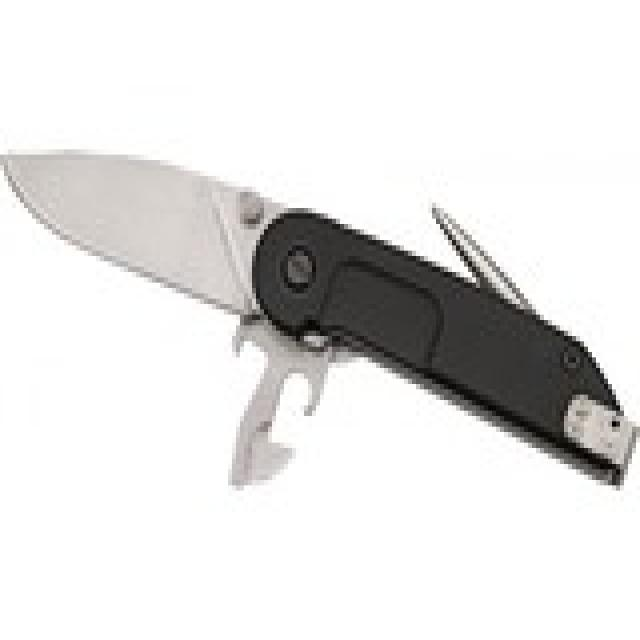Knife: (0, 98, 640, 516)
